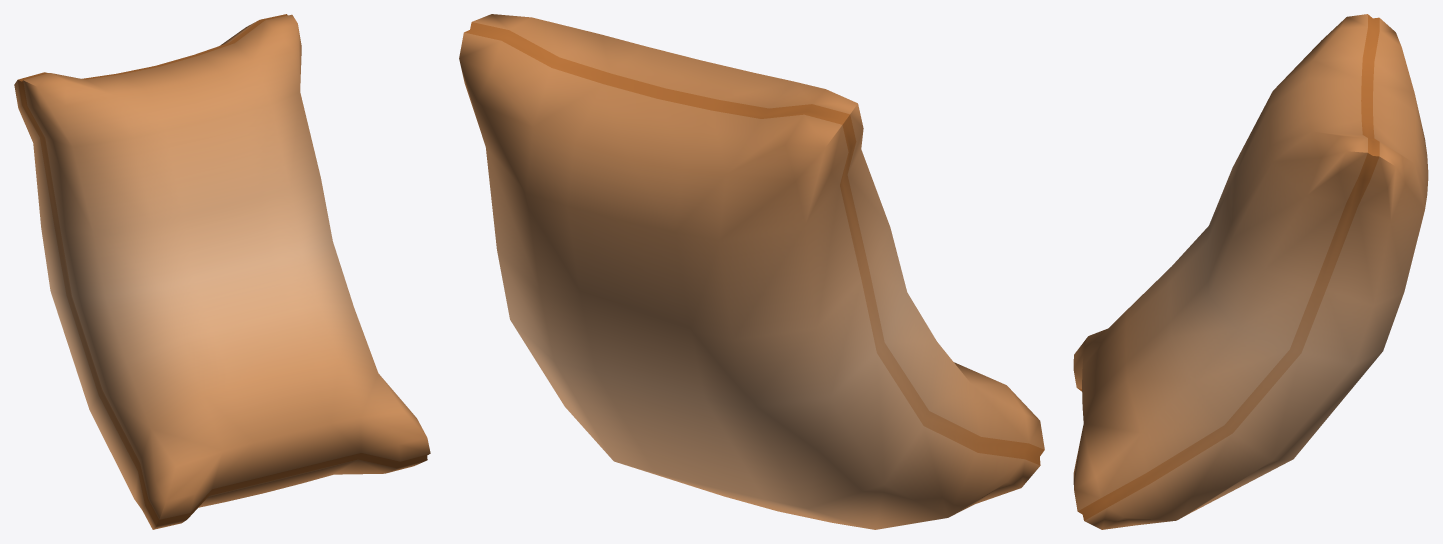
The model's file is Sacks--1-2.fbx.
3 renders of one model, left to right at view 1: azimuth 30°, elevation 25°; view 2: azimuth 150°, elevation 25°; view 3: azimuth 270°, elevation 25°, orthographic. The views are drawn at different scales.
Parts seen in each view (by area): view 1: Sacks--1-2; view 2: Sacks--1-2; view 3: Sacks--1-2.
Part boxes in pixels (x1,y1,x2,y2): Sacks--1-2: (14, 14, 430, 529); Sacks--1-2: (459, 14, 1044, 529); Sacks--1-2: (1073, 14, 1428, 529).
Bounding box in the file's own units: 98.25 × 130 × 105.
